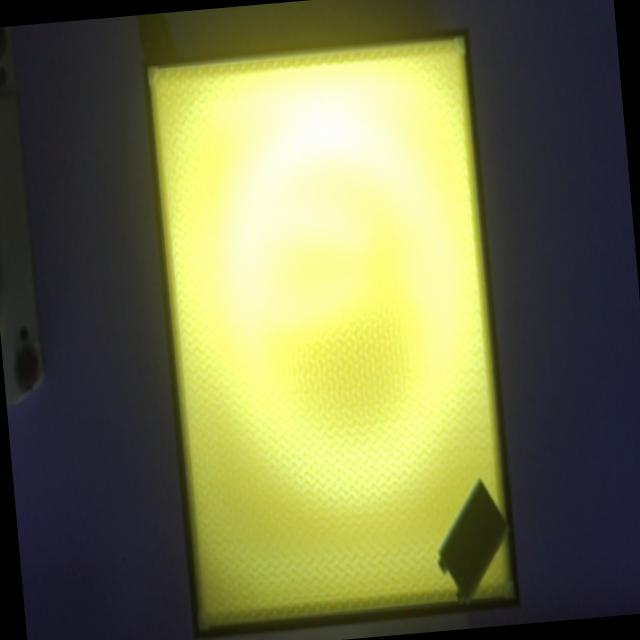bateria: (437, 477, 509, 604)
mesa: (142, 27, 520, 639)
